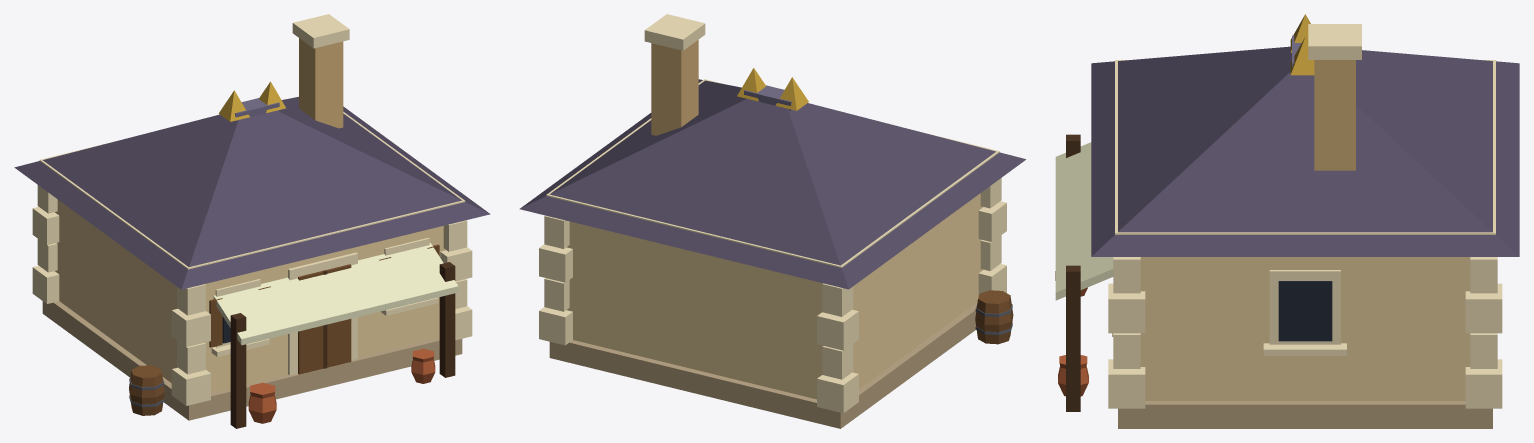
File: house_07_tiled_hip.fbx
3 renders of one model, left to right at view 1: azimuth 30°, elevation 25°; view 2: azimuth 150°, elevation 25°; view 3: azimuth 270°, elevation 25°, orthographic. The views are drawn at different scales.
Parts seen in each view (by area): view 1: house_07_tiled_hip; view 2: house_07_tiled_hip; view 3: house_07_tiled_hip.
Boxes of the visible parts, x1,y1,x2,y2 form: house_07_tiled_hip: (14, 14, 490, 428); house_07_tiled_hip: (519, 14, 1025, 428); house_07_tiled_hip: (1055, 14, 1519, 428).
Size of the model in its own units: 8.15 by 6.65 by 7.8.
1 material, 1 textured.
